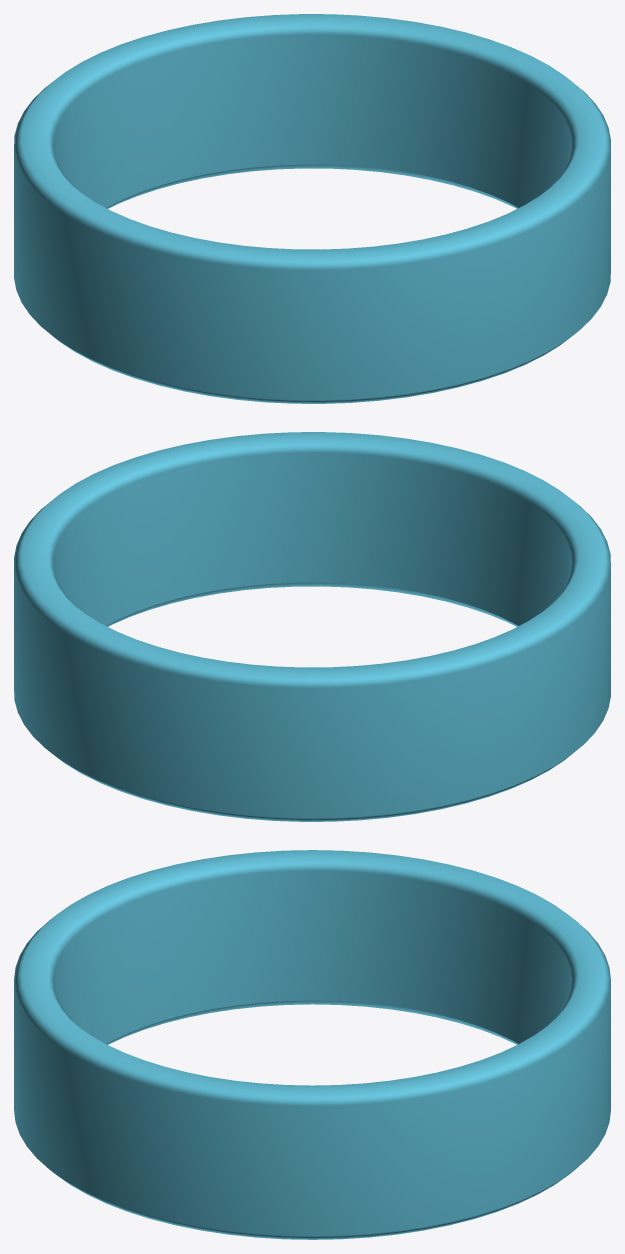
The picture shows the model from 3 angles, top to bottom: view 1: azimuth 30°, elevation 25°; view 2: azimuth 150°, elevation 25°; view 3: azimuth 270°, elevation 25°; orthographic projection.
Visible parts, largest first — view 1: seal_body; view 2: seal_body; view 3: seal_body.
Part boxes in pixels (x1=…): seal_body: x1=14, y1=14, x2=610, y2=403; seal_body: x1=14, y1=432, x2=610, y2=821; seal_body: x1=14, y1=850, x2=610, y2=1239.
Size of the model in its own units: 0.0476 by 0.0127 by 0.0476.
